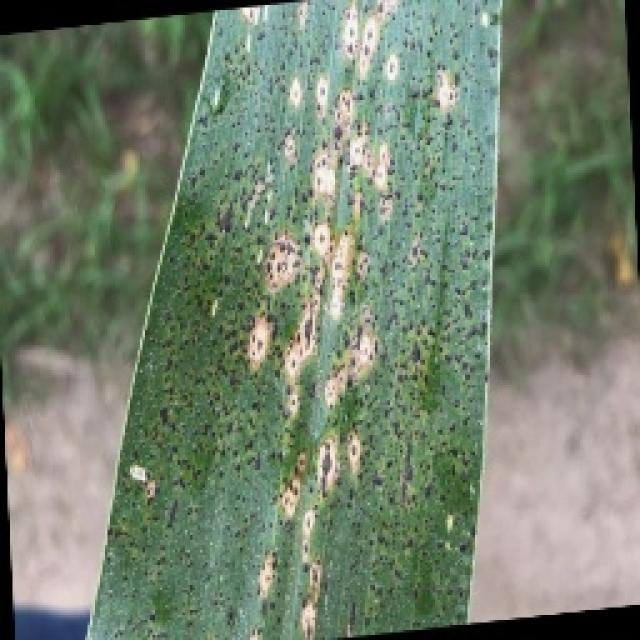Tar_Spot: (254, 194, 470, 487)
